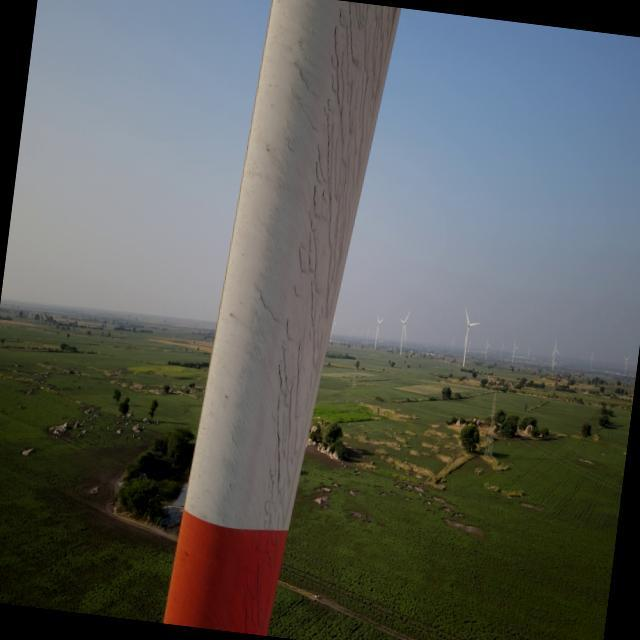Dirt: (165, 3, 405, 635)
